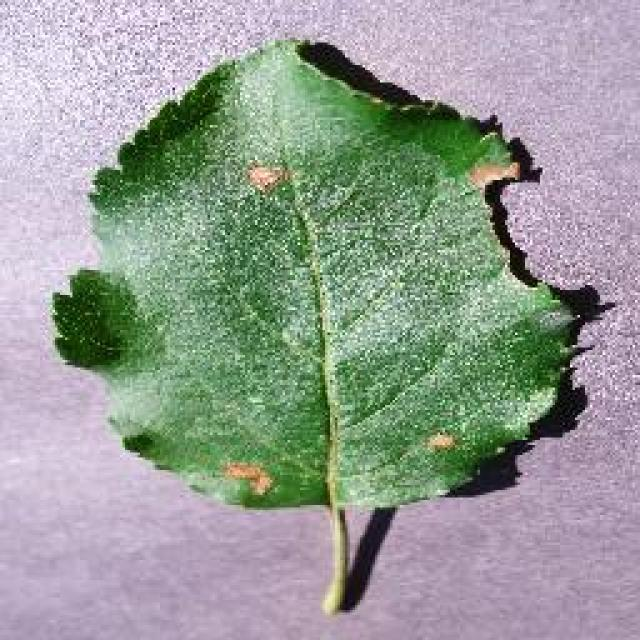apple black rot: (48, 32, 590, 612)
